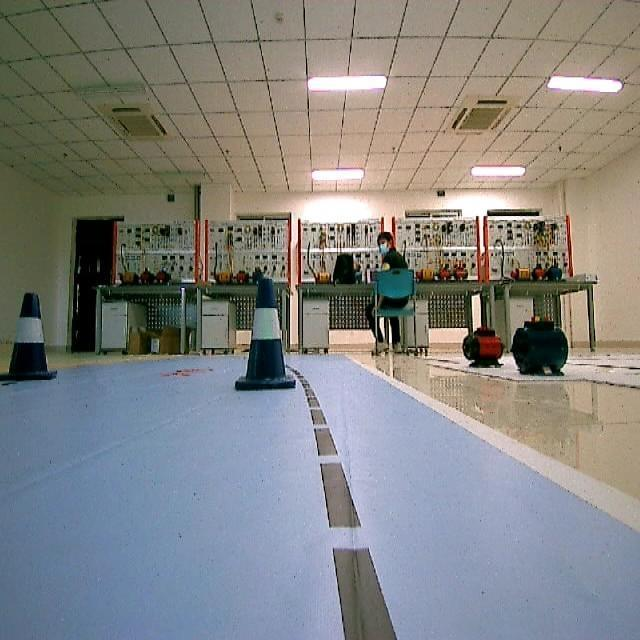obstacle: (225, 274, 302, 396), (0, 289, 54, 388)
